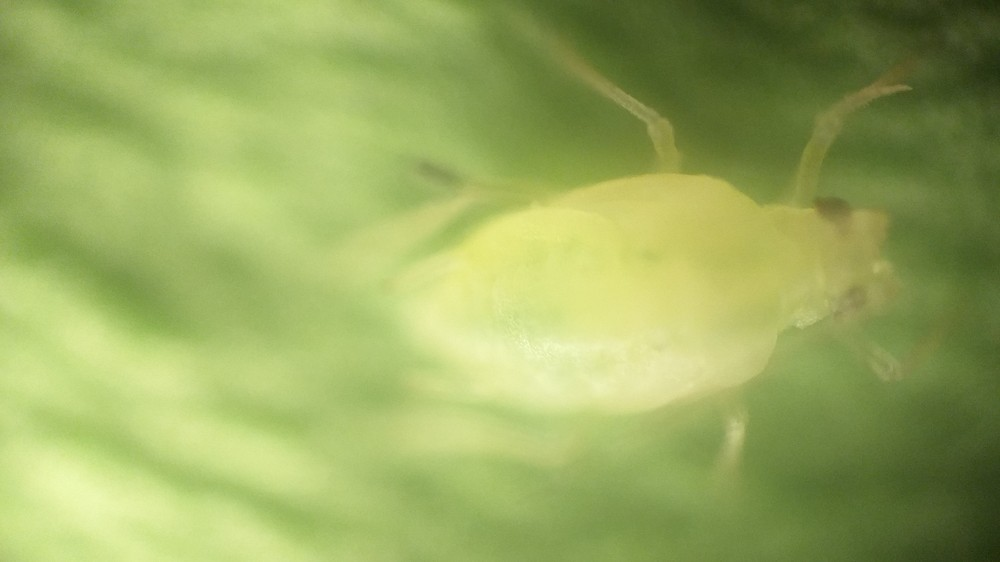Pulgon: (317, 17, 998, 511)
